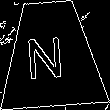N_N: (31, 27, 72, 80)
